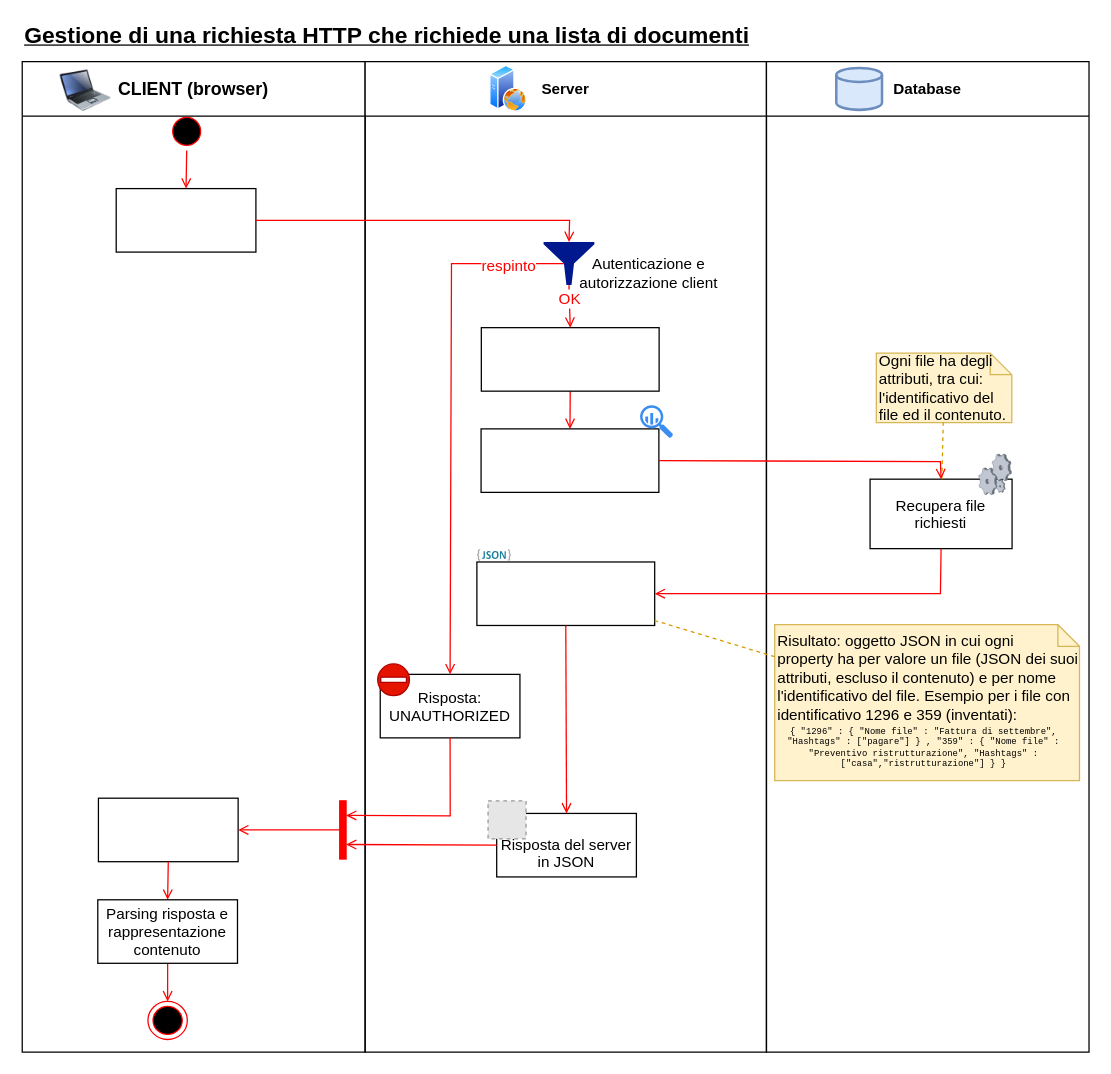
Some shapes in this 1111 by 1074 pixel diagram are drawn without their labels. Grey dashed boxes stand in for pictures. The shapes that lost their labels are listed below. From the top down, each one's centre as x and y in pixels, then its label:
At point 185,219: "Richiesta HTTP; lista documenti".
At point 569,358: "Recupera informazioni dell'utente".
At point 569,460: "Query: file destinati all'utente da cui proviene la richiesta".
At point 565,593: "Costruisci JSON".
At point 167,829: "Risposta HTTP".
